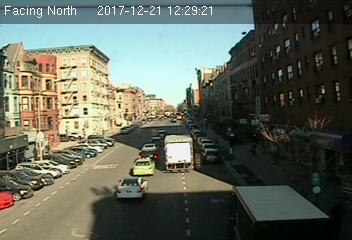car: (117, 177, 149, 198), (132, 157, 156, 175), (202, 147, 221, 163), (140, 150, 158, 159), (141, 142, 158, 150)
truck: (164, 134, 195, 173)
ups: (229, 185, 333, 240)
